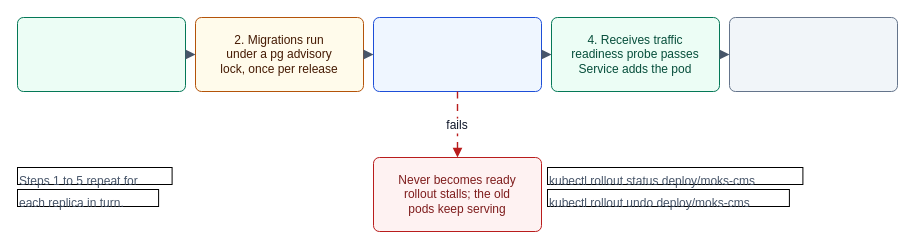
Image size: 915x249. Some labels were removed from this diagram. The shapes that lost their labels are listed below. From the top down, each one's centre as x and y in pixels, then its label:
the point at 101,54: 1. New pod starts maxSurge: 1 maxUnavailable: 0
the point at 457,54: 3. Startup probe OK GET /api/health up to 60 s (30 × 2 s)
the point at 813,54: 5. Old pod drains preStop: sleep 5 SIGTERM, 30 s grace
